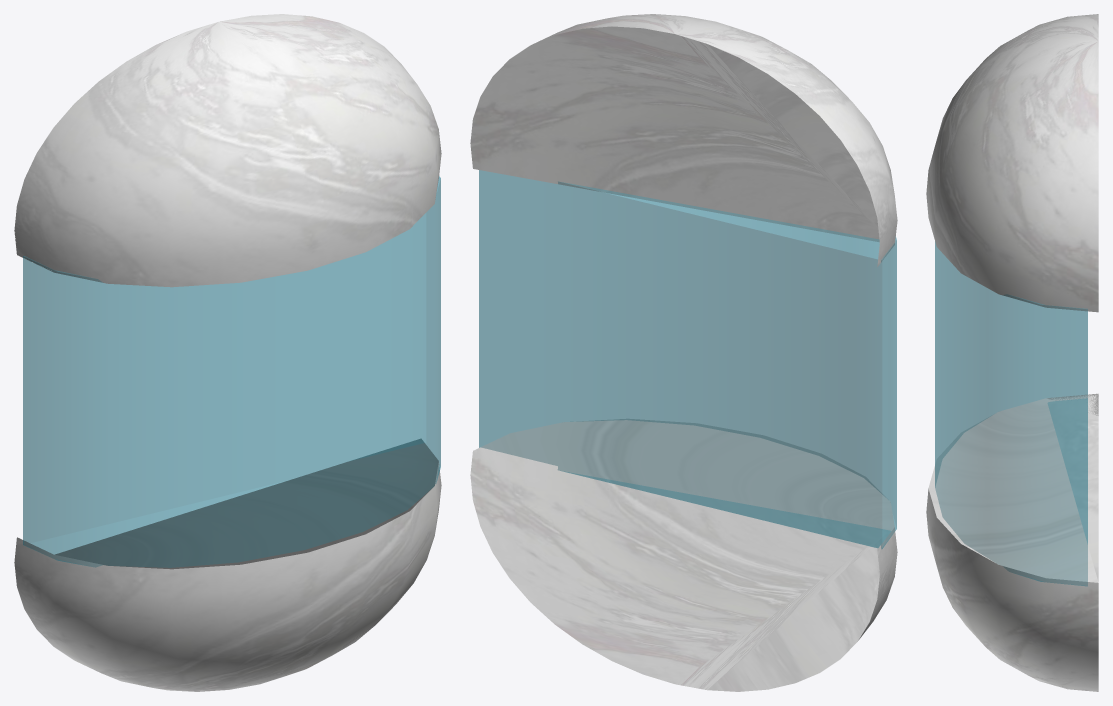
Rendered from elevator.fbx.
3 views of the same model, side by side, from view 1: azimuth 30°, elevation 25°; view 2: azimuth 150°, elevation 25°; view 3: azimuth 270°, elevation 25° (orthographic). The views are drawn at different scales.
Parts seen in each view (by area): view 1: lift_top; view 2: lift_top; view 3: lift_top.
Part boxes in pixels (left/top/right/bottom): lift_top: left=14, top=14, right=441, bottom=691; lift_top: left=470, top=14, right=897, bottom=691; lift_top: left=926, top=14, right=1098, bottom=691.
Bounding box in the file's own units: 39.89 × 60.54 × 15.16.
